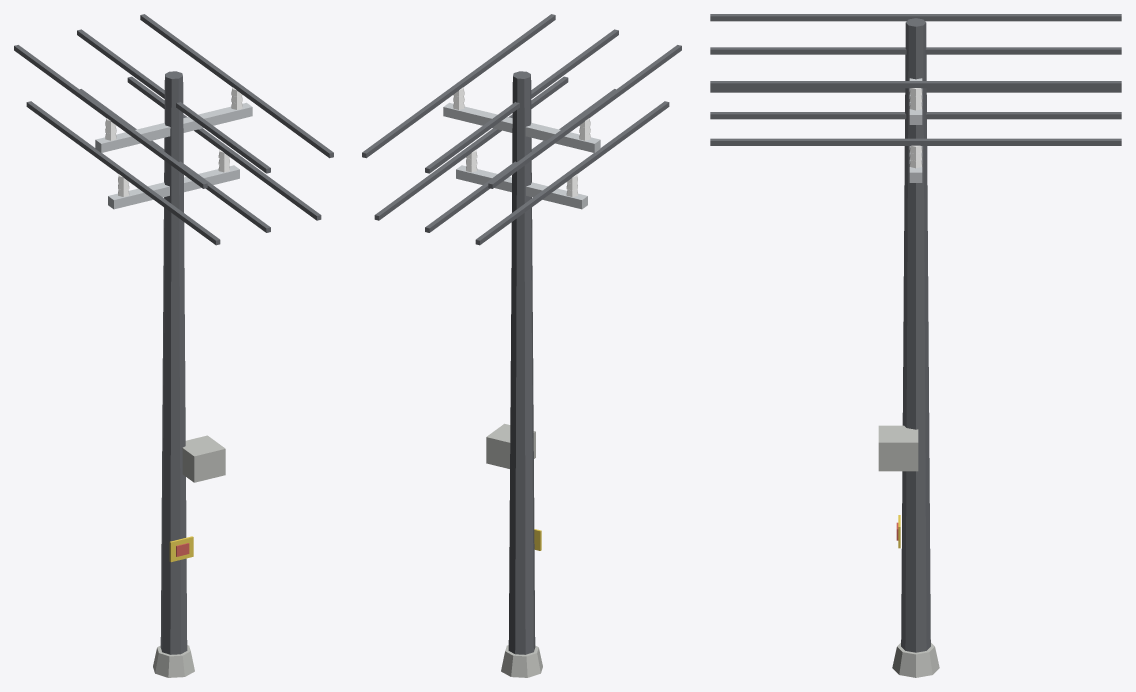
The model's file is wind-and-solar-energy-farm-wood-pole-power-line-d14a9fc9__34078.glb.
3 renders of one model, left to right at view 1: azimuth 30°, elevation 25°; view 2: azimuth 150°, elevation 25°; view 3: azimuth 270°, elevation 25°, orthographic. The views are drawn at different scales.
Parts seen in each view (by area): view 1: wood-pole-power-line; view 2: wood-pole-power-line; view 3: wood-pole-power-line.
Boxes of the visible parts, <box> form: wood-pole-power-line: <box>14,14,333,677</box>; wood-pole-power-line: <box>362,14,681,677</box>; wood-pole-power-line: <box>710,14,1121,677</box>.
Size of the model in its own units: 2.4 by 9 by 5.2.
